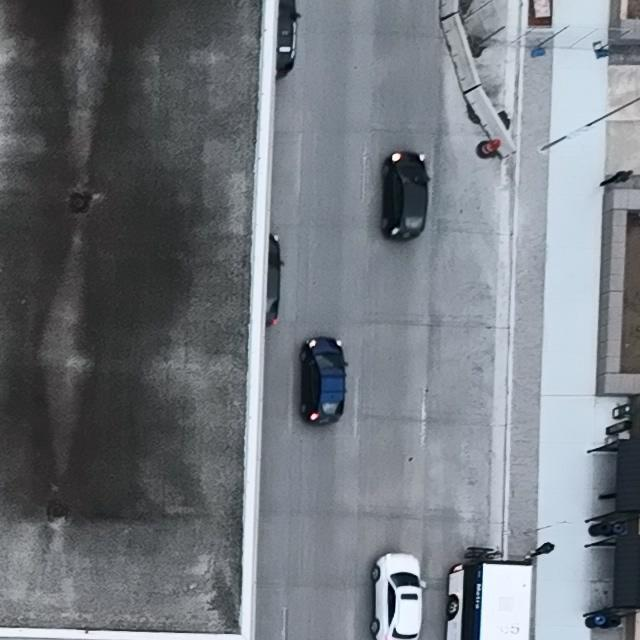car: (445, 542, 556, 640), (369, 553, 428, 640), (379, 152, 432, 241), (298, 336, 350, 425), (265, 234, 285, 327), (276, 0, 301, 74)
